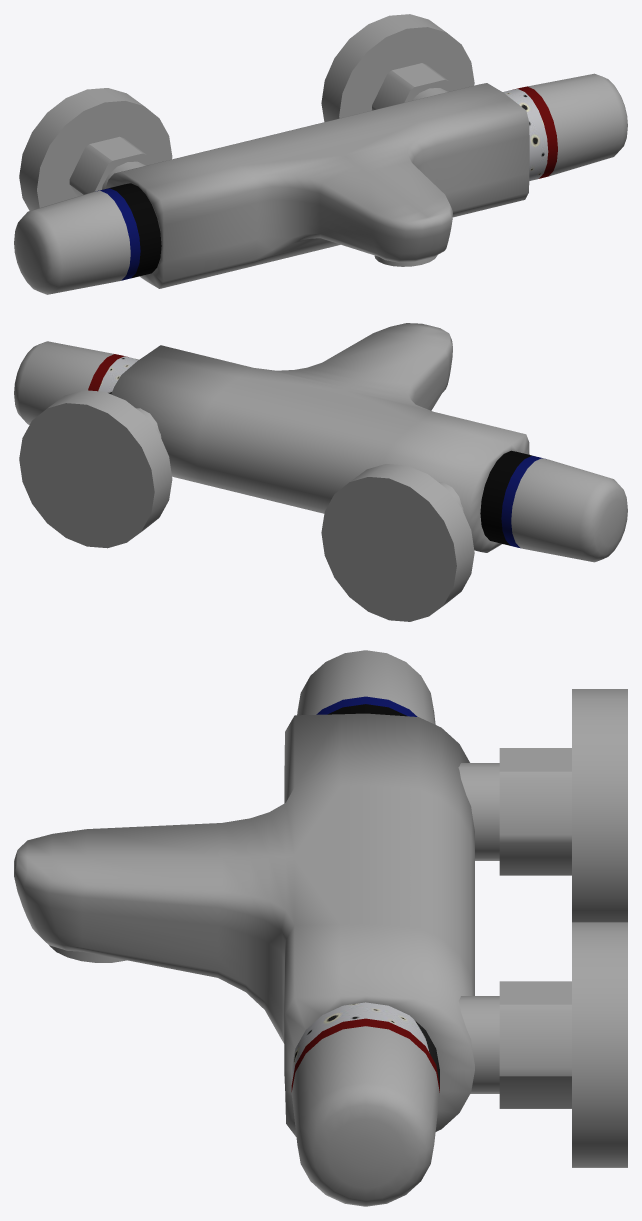
File: mixer-tap-for-bath.obj
The picture shows the model from 3 angles, top to bottom: view 1: azimuth 30°, elevation 25°; view 2: azimuth 150°, elevation 25°; view 3: azimuth 270°, elevation 25°; orthographic projection. The views are drawn at different scales.
Parts seen in each view (by area): view 1: Tap, PipeConnexions; view 2: Tap, PipeConnexions; view 3: Tap, PipeConnexions.
Part boxes in pixels (x1,y1,x2,y2): Tap: (14, 73, 627, 294); PipeConnexions: (19, 14, 474, 210); Tap: (14, 323, 627, 562); PipeConnexions: (19, 390, 474, 621); Tap: (14, 650, 474, 1206); PipeConnexions: (458, 689, 627, 1167).
Size of the model in its own units: 29.02 by 6.71 by 16.65.
